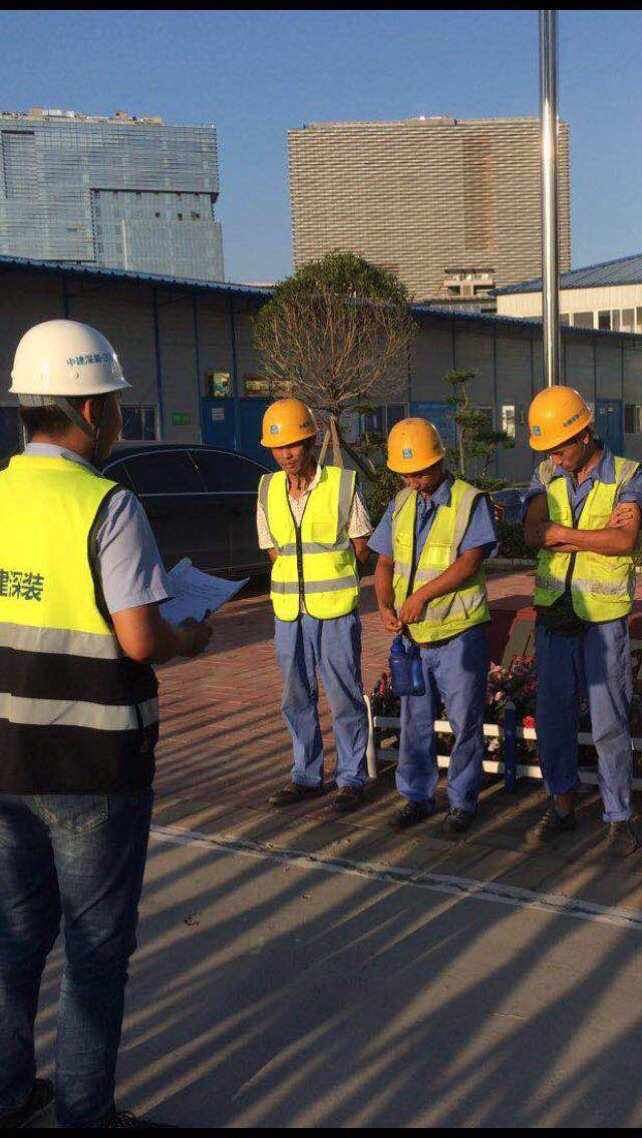person: (1, 316, 169, 1138), (519, 381, 641, 862), (364, 411, 496, 839), (253, 395, 378, 816)
reflective_vest: (1, 452, 163, 797), (527, 456, 642, 626), (388, 480, 492, 645), (258, 465, 363, 624)
safety_helmet: (10, 320, 134, 473), (524, 382, 596, 476), (383, 412, 449, 497), (257, 396, 319, 474)
